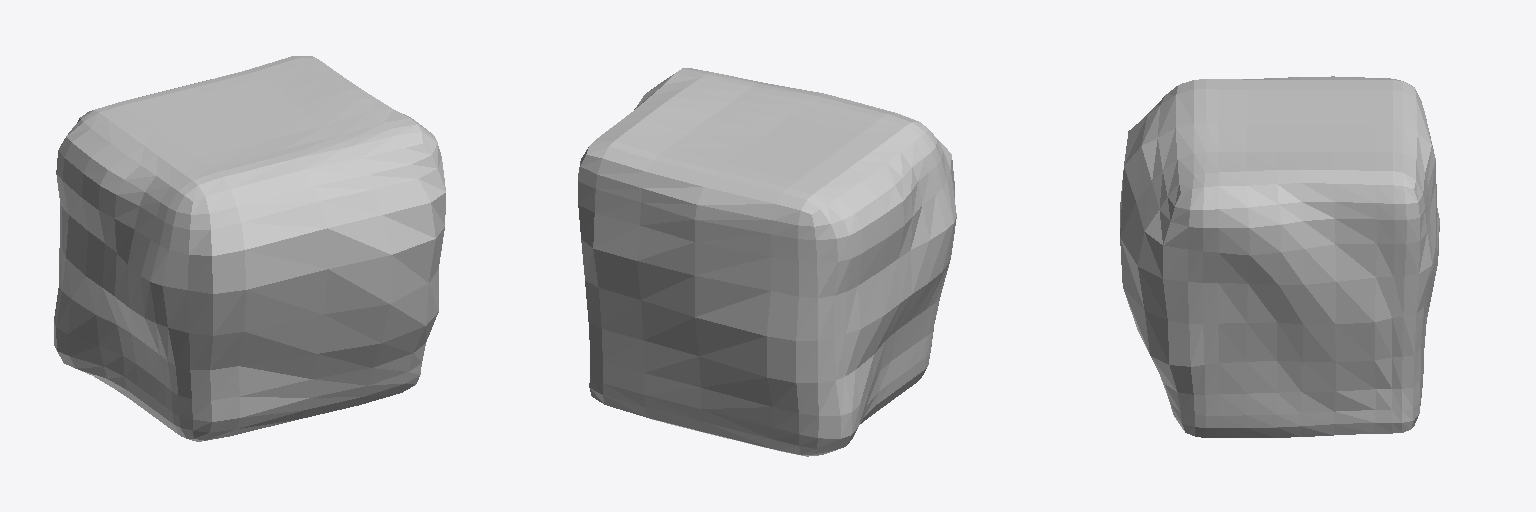
File: PM3D_rock001_003.OBJ
The picture shows the model from 3 angles: view 1: azimuth 30°, elevation 25°; view 2: azimuth 150°, elevation 25°; view 3: azimuth 270°, elevation 25°; orthographic projection.
Parts seen in each view (by area): view 1: Group38360; view 2: Group38360; view 3: Group38360.
Boxes of the visible parts, <box> form: Group38360: <box>54,56,445,441</box>; Group38360: <box>578,68,956,456</box>; Group38360: <box>1120,76,1439,437</box>.
Bounding box in the file's own units: 1875 × 1632 × 1768.